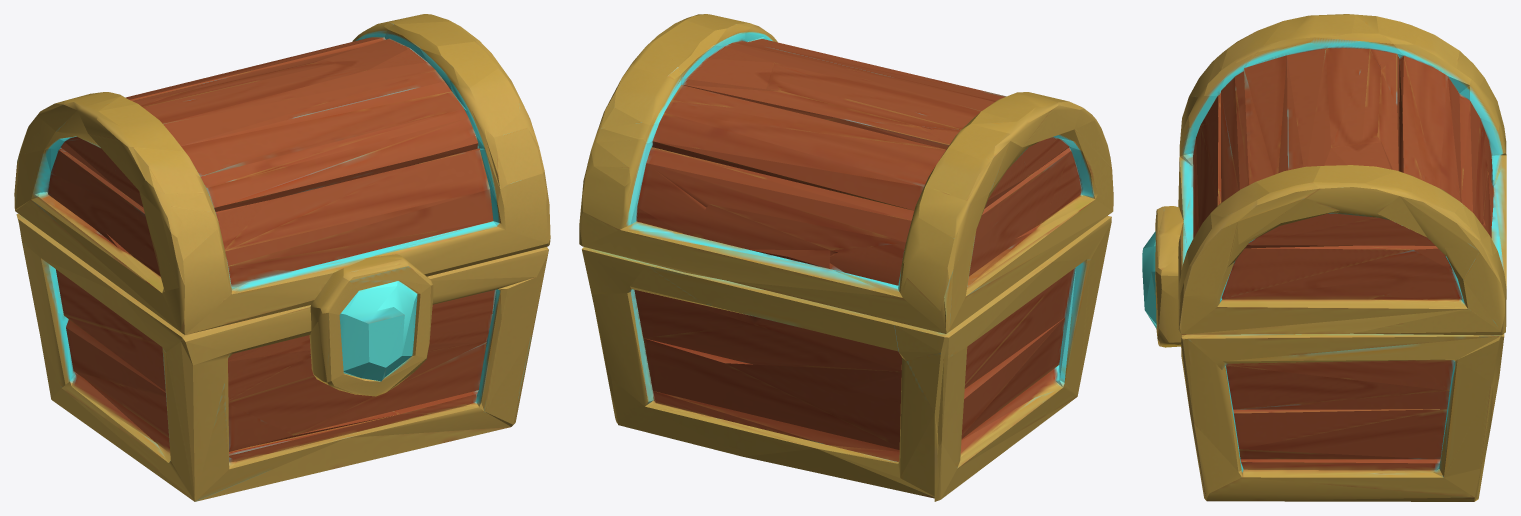
The model's file is chest.glb.
3 renders of one model, left to right at view 1: azimuth 30°, elevation 25°; view 2: azimuth 150°, elevation 25°; view 3: azimuth 270°, elevation 25°, orthographic. The views are drawn at different scales.
Size of the model in its own units: 1.9 by 1.67 by 1.68.
Materials: 1 (1 with a texture image).
